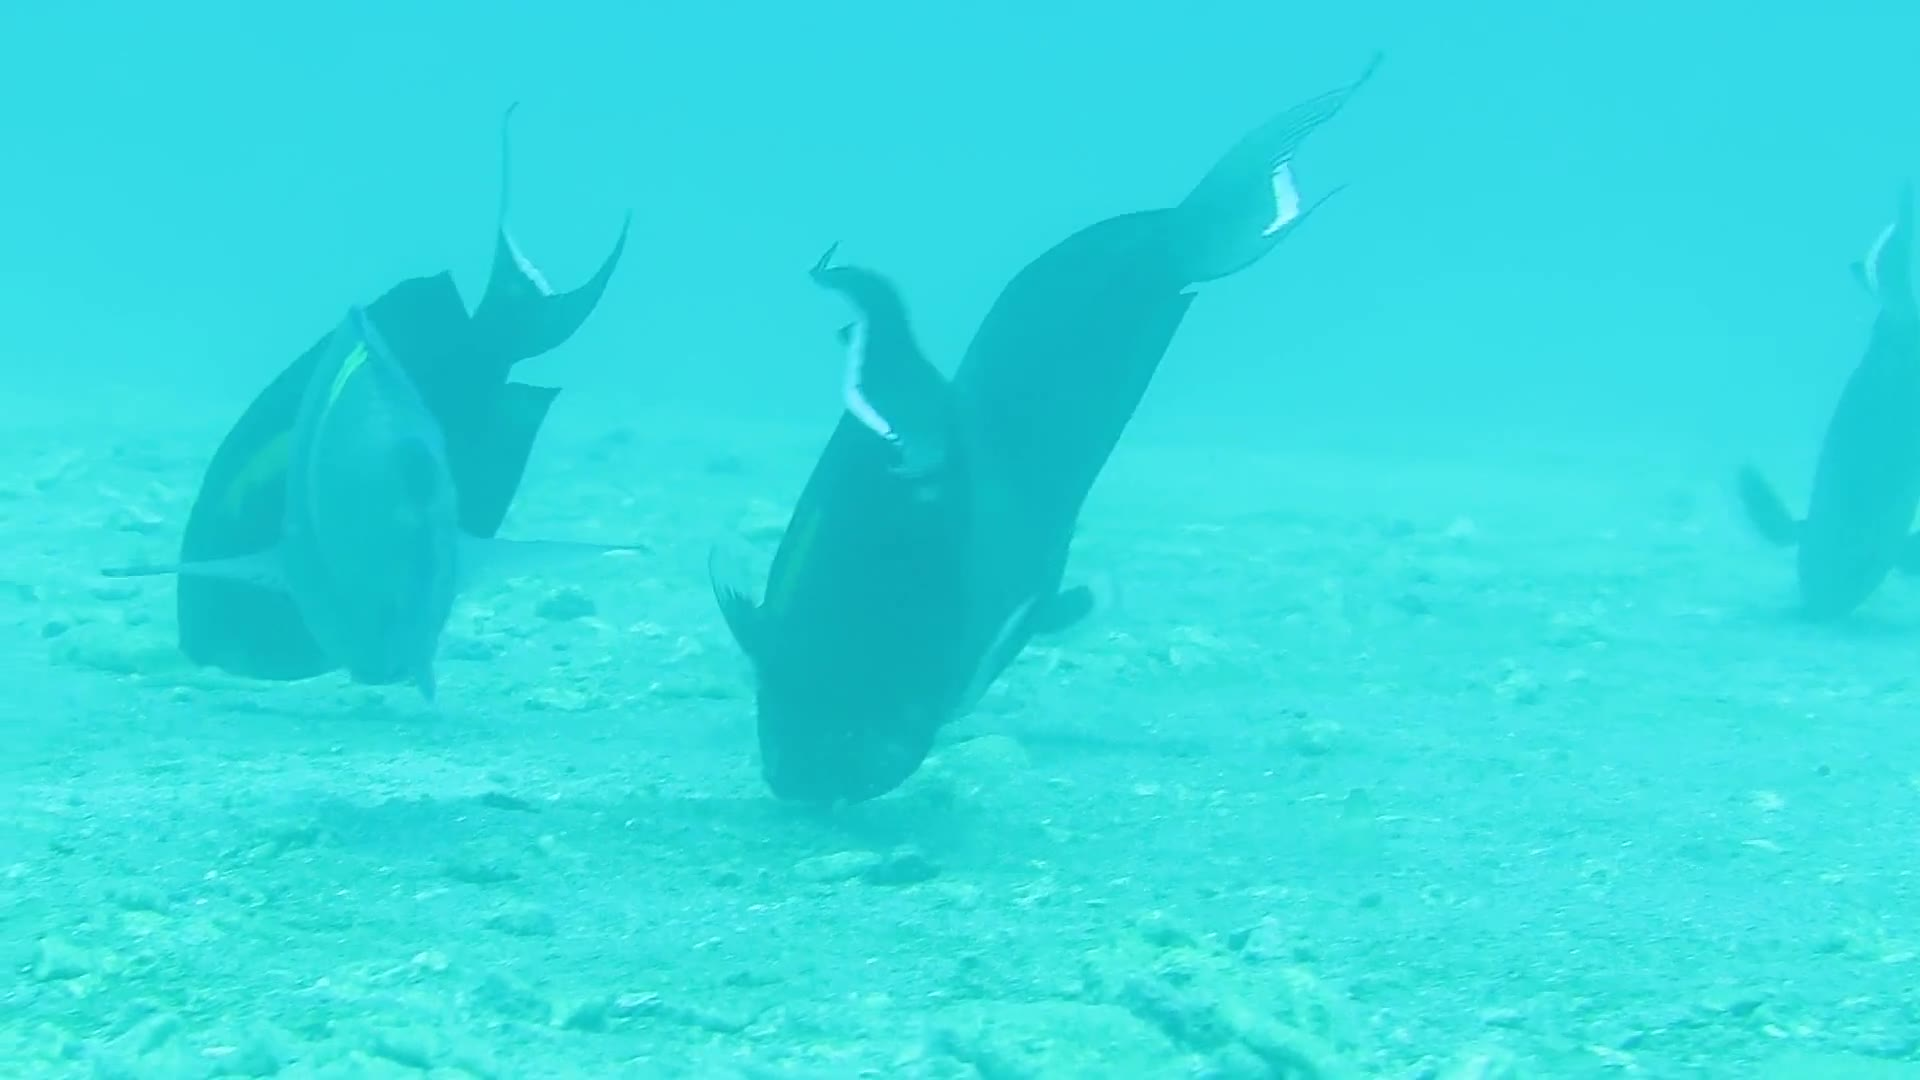Acanthurus olivaceus: (945, 145, 1325, 670), (196, 204, 575, 729), (713, 310, 992, 806), (1741, 222, 1920, 630)
